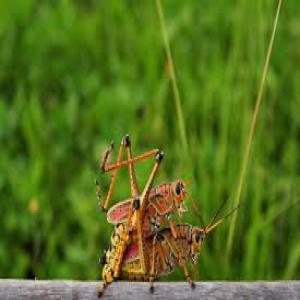locust: (93, 147, 208, 230)
